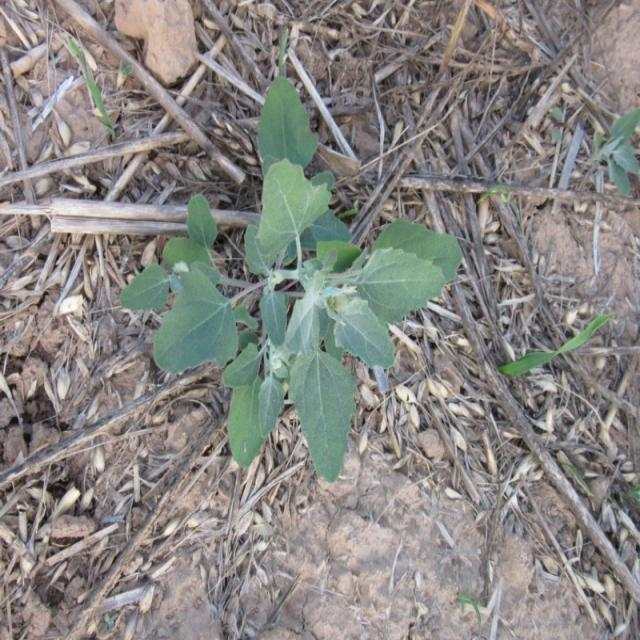ca: (118, 80, 461, 480)
